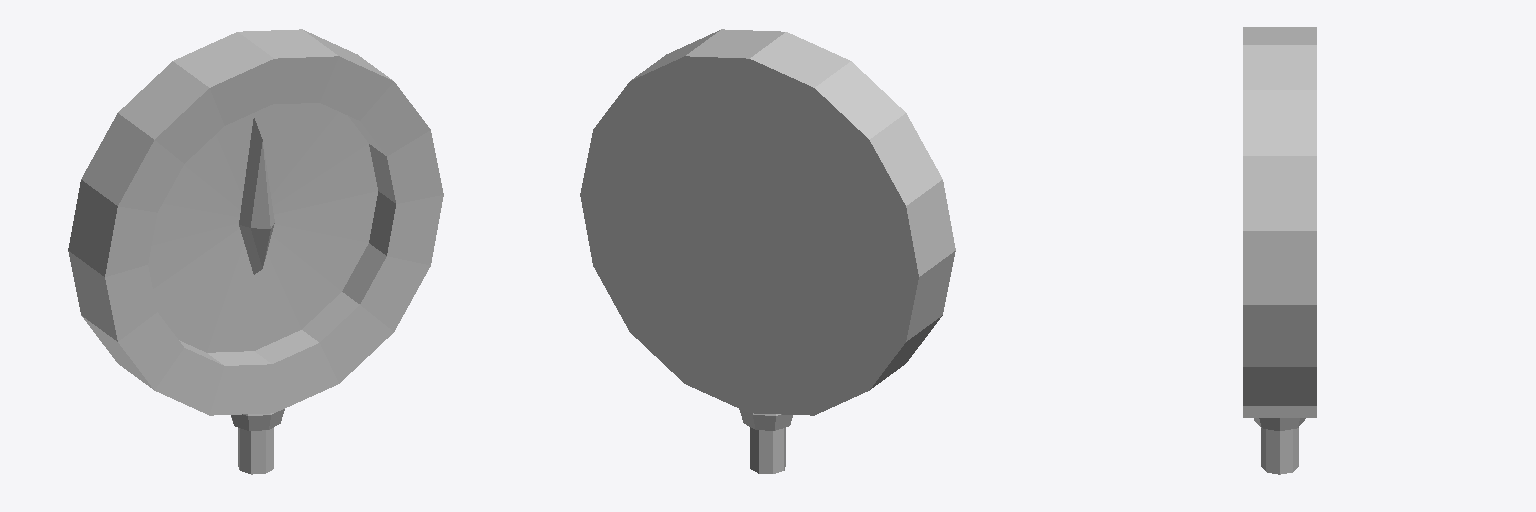
The model's file is Gauge.obj.
3 views of the same model, side by side, from view 1: azimuth 30°, elevation 25°; view 2: azimuth 150°, elevation 25°; view 3: azimuth 270°, elevation 25° (orthographic).
Visible parts, largest first — view 1: Gauge_Cylinder.004, Needle2_Cube.003; view 2: Gauge_Cylinder.004; view 3: Gauge_Cylinder.004.
Boxes of the visible parts, x1=… form: Gauge_Cylinder.004: x1=68, y1=29, x2=443, y2=474; Needle2_Cube.003: x1=239, y1=118, x2=274, y2=274; Gauge_Cylinder.004: x1=580, y1=29, x2=955, y2=473; Gauge_Cylinder.004: x1=1243, y1=27, x2=1316, y2=474.
Size of the model in its own units: 0.3827 by 0.455 by 0.072.